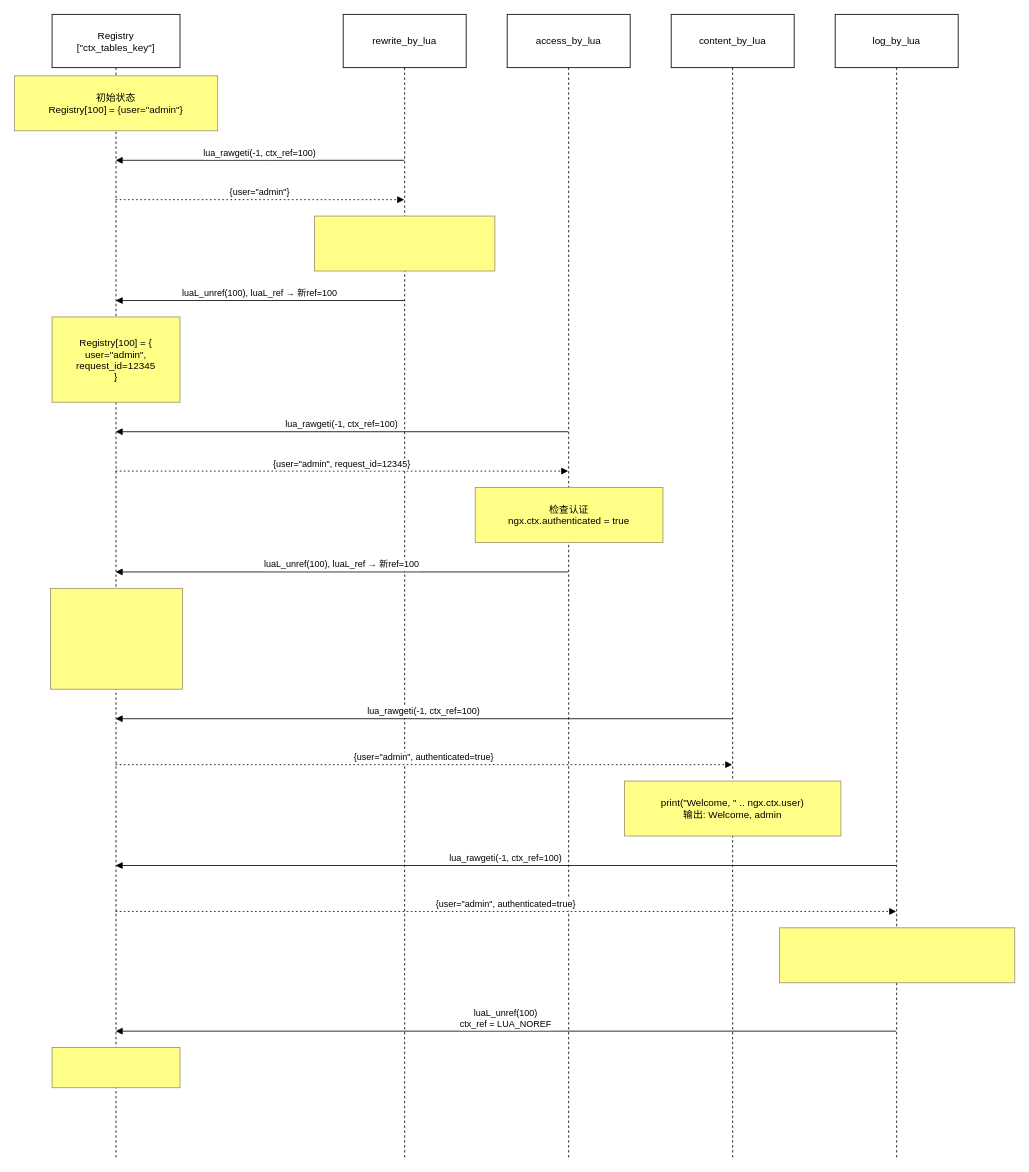
The diagram is 1029 pixels wide and 1172 high, and some of its shapes have lost their labels. Each missing label, with the centre of its shape:
ngx.ctx.user = "admin" ngx.ctx.request_id = 12345: the point at 404,243
ngx.log(ERR, "User " .. ngx.ctx.user) 记录日志: the point at 897,955
Registry[100] = nil: the point at 115,1067
Registry[100] = { user="admin", request_id=12345, authenticated=true }: the point at 116,638
